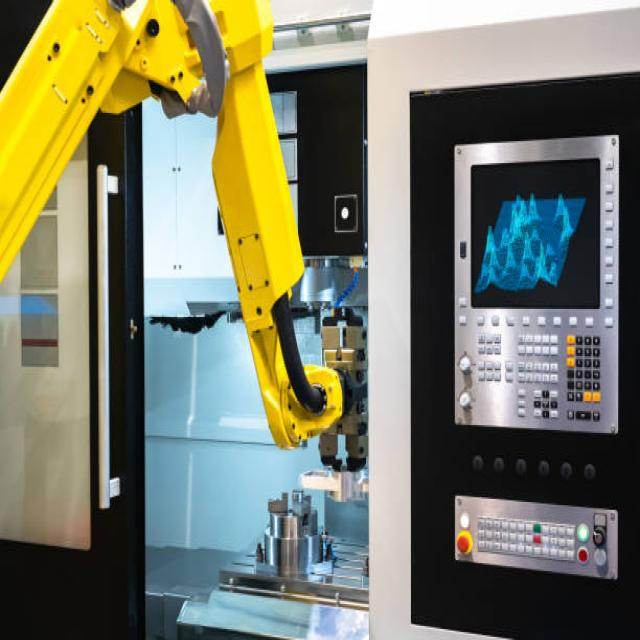Robotic-arm: (0, 0, 344, 449)
